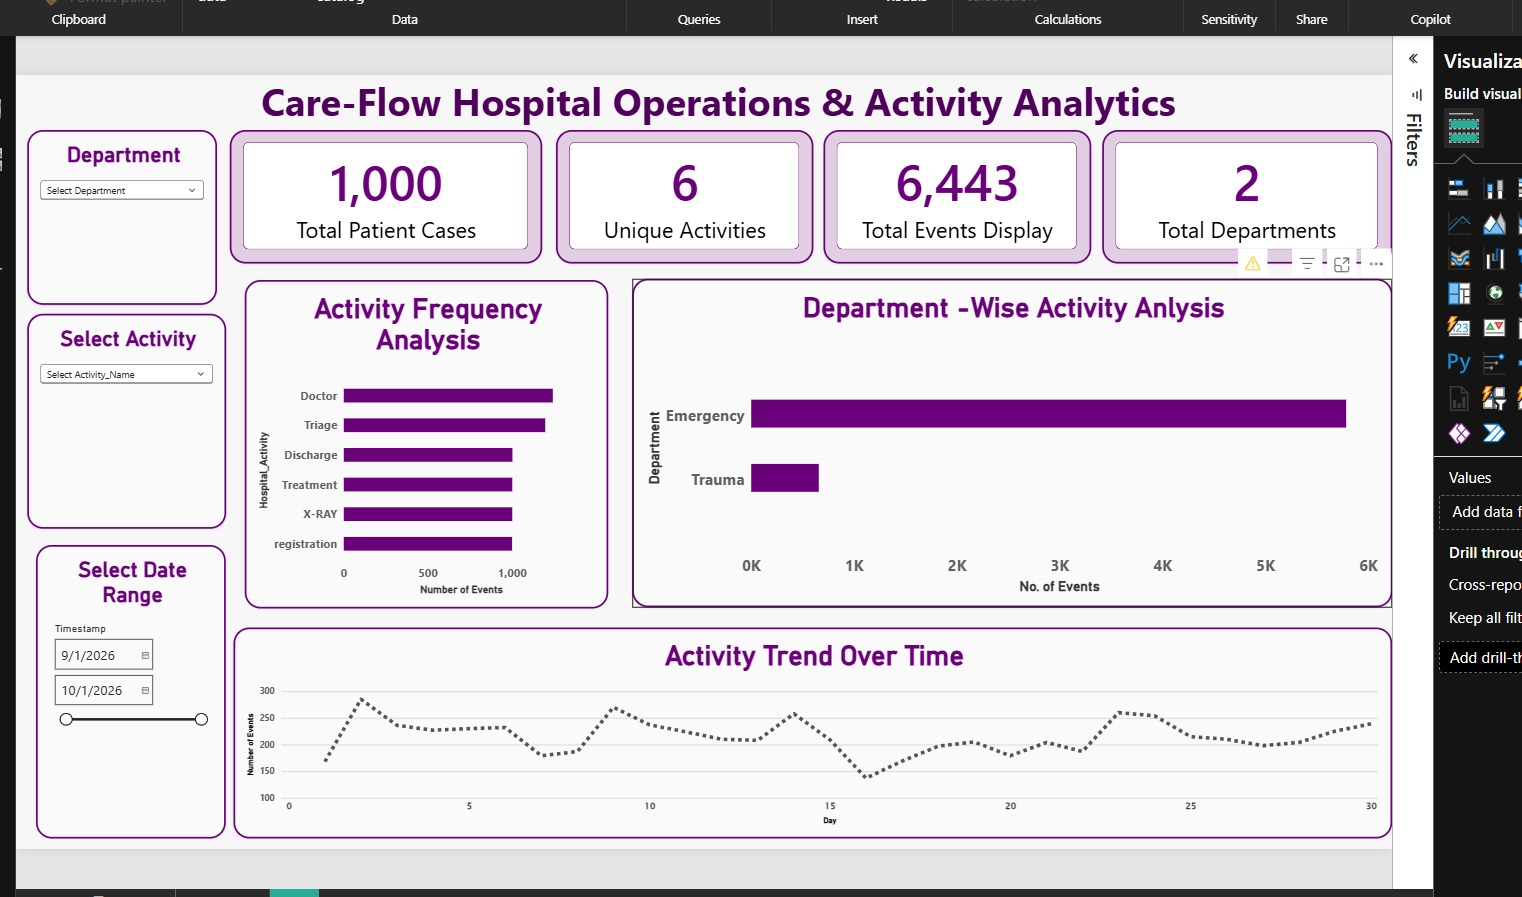

Layout of this report page (visuals, bound fields, positions):
{"tool":"powerbi","page":{"name":"Page 1","canvas":[1920,1080],"ordinal":0},"visuals":[{"type":"cardVisual","title":"Total Events","fields":{"Data":["careflow_raw_event_log.Total Events Display"]},"box":[1126.7,76.7,373.3,186.6],"z":0},{"type":"cardVisual","title":"Unique Activities","fields":{"Data":["Count(careflow_raw_event_log.Activity_Name)"]},"box":[753.5,76.7,359.3,186.6],"z":1000},{"type":"cardVisual","title":"Total Departments","fields":{"Data":["Count(careflow_raw_event_log.Department)"]},"box":[1515.7,76.7,404.7,186.6],"z":2000},{"type":"cardVisual","fields":{"Data":["careflow_raw_event_log.Total Patient Cases Display"]},"box":[298.3,76.7,436,186.6],"z":3000},{"type":"clusteredBarChart","title":"Activity Frequency Analysis","fields":{"Category":["careflow_raw_event_log.Activity_Name"],"Y":["CountNonNull(careflow_raw_event_log.Activity_Name)"]},"box":[319.2,286,507.6,458.7],"z":4000},{"type":"lineChart","title":"Activity Trend Over Time","fields":{"Category":["careflow_raw_event_log.Timestamp.Variation.Date Hierarchy.Day"],"Y":["CountNonNull(careflow_raw_event_log.Activity_Name)"]},"box":[303.5,770.9,1616.9,294.8],"z":5000},{"type":"clusteredBarChart","title":"Department -Wise Activity Anlysis","fields":{"Category":["careflow_raw_event_log.Department"],"Y":["CountNonNull(careflow_raw_event_log.Activity_Name)"]},"box":[859.9,284.3,1060.5,458.7],"z":6000},{"type":"textbox","box":[134.3,0,1589,76.7],"z":7000},{"type":"listSlicer","fields":{"Values":["careflow_raw_event_log.Department"]},"box":[15.7,76.7,265.1,244.2],"z":8000},{"type":"listSlicer","title":"Select Activity","fields":{"Values":["careflow_raw_event_log.Activity_Name"]},"box":[15.7,333.1,277.3,300],"z":9000},{"type":"slicer","title":"Select Date Range","fields":{"Values":["careflow_raw_event_log.Timestamp"]},"box":[27.9,655.8,265.1,409.9],"z":10000}]}

Visuals, with their boxes on the page's 1920x1080 design canvas (x1, y1, x2, y2). These are canvas units, not pixel positions in the 1522x897 screenshot, which may show the page scaled, cropped or inside an application window:
"Total Events" cardVisual: rect(1127, 77, 1500, 263)
"Unique Activities" cardVisual: rect(754, 77, 1113, 263)
"Total Departments" cardVisual: rect(1516, 77, 1920, 263)
cardVisual - careflow_raw_event_log.Total Patient Cases Display: rect(298, 77, 734, 263)
"Activity Frequency Analysis" clusteredBarChart: rect(319, 286, 827, 745)
"Activity Trend Over Time" lineChart: rect(304, 771, 1920, 1066)
"Department -Wise Activity Anlysis" clusteredBarChart: rect(860, 284, 1920, 743)
textbox: rect(134, 0, 1723, 77)
listSlicer - careflow_raw_event_log.Department: rect(16, 77, 281, 321)
"Select Activity" listSlicer: rect(16, 333, 293, 633)
"Select Date Range" slicer: rect(28, 656, 293, 1066)
